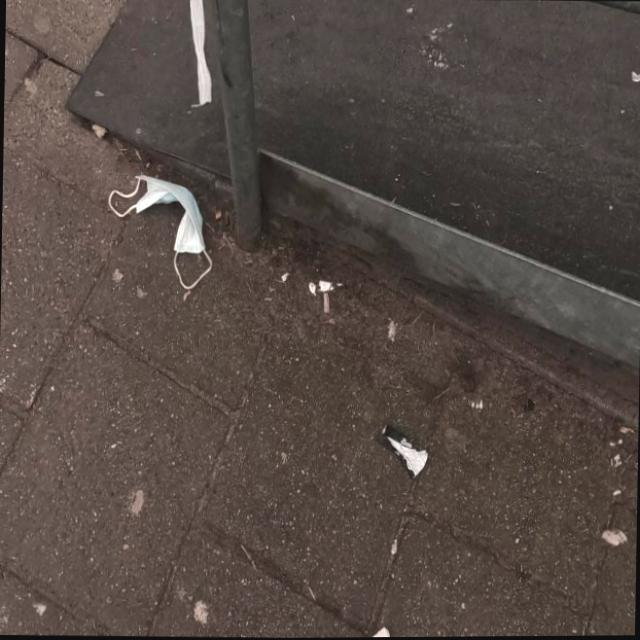Mask: (106, 168, 215, 291)
Paper: (185, 0, 215, 111)
Plastic: (376, 422, 429, 485)
